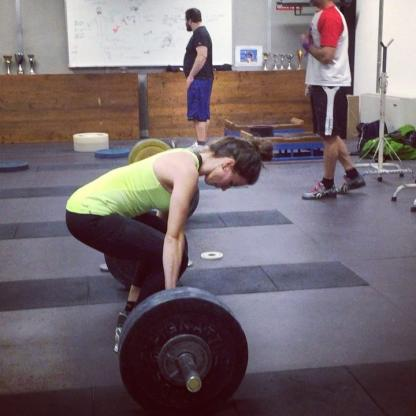barbell: (119, 296, 250, 416)
